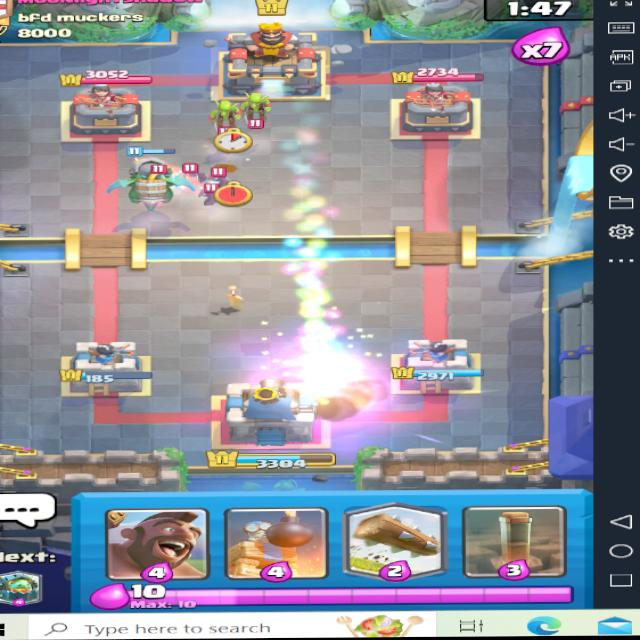Bat: (185, 183, 243, 209)
Goblin: (199, 94, 245, 133), (239, 89, 277, 126)
